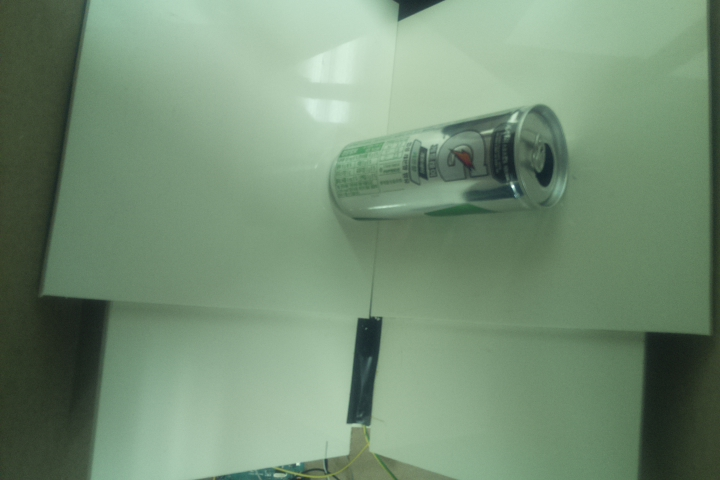can: (326, 100, 570, 224)
